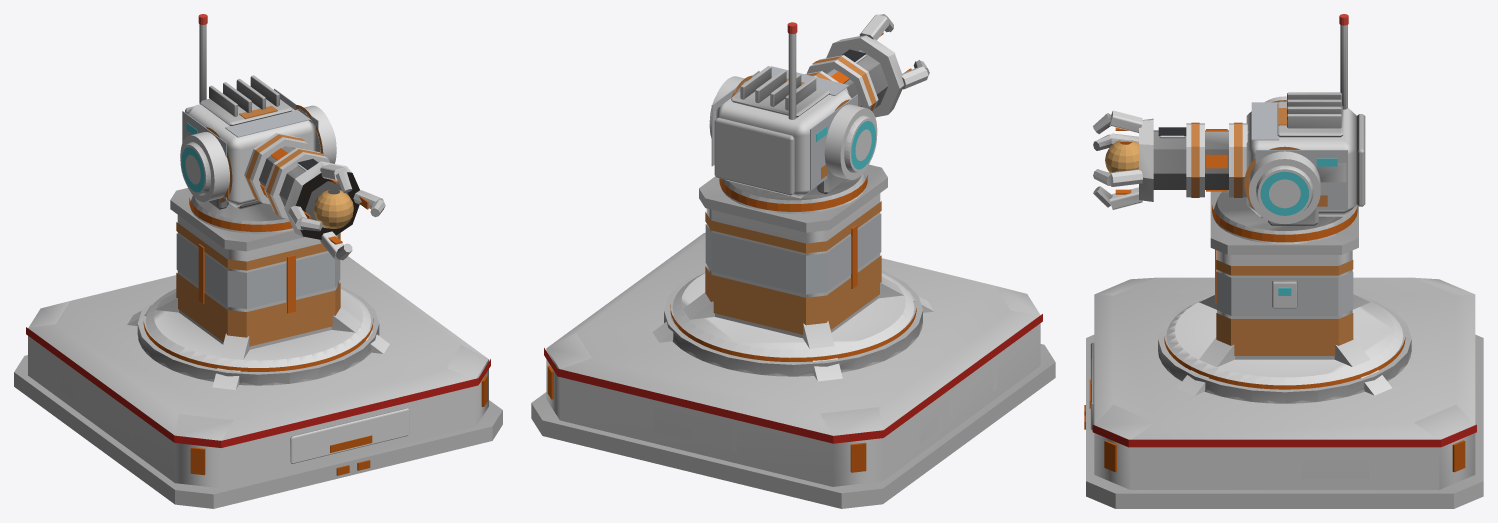
File: fire_1.glb
3 renders of one model, left to right at view 1: azimuth 30°, elevation 25°; view 2: azimuth 150°, elevation 25°; view 3: azimuth 270°, elevation 25°, orthographic. The views are drawn at different scales.
Visible parts, largest first — view 1: Rumpf, Werfer, Gelenk, Drehteller, Kern; view 2: Rumpf, Werfer, Gelenk, Drehteller; view 3: Rumpf, Werfer, Gelenk, Drehteller, Kern, Ladung.
Boxes of the visible parts, <box> form: Rumpf: <box>14,188,502,508</box>; Werfer: <box>182,14,385,260</box>; Gelenk: <box>180,105,336,202</box>; Drehteller: <box>189,196,293,233</box>; Kern: <box>314,189,353,228</box>; Rumpf: <box>531,164,1055,508</box>; Werfer: <box>711,14,929,198</box>; Gelenk: <box>709,75,877,179</box>; Drehteller: <box>719,168,867,213</box>; Rumpf: <box>1084,191,1483,508</box>; Werfer: <box>1093,14,1365,216</box>; Gelenk: <box>1244,96,1320,224</box>; Drehteller: <box>1212,190,1357,244</box>; Kern: <box>1105,139,1138,172</box>; Ladung: <box>1115,127,1227,194</box>.
Size of the model in its own units: 0.94 by 1.03 by 0.944.
